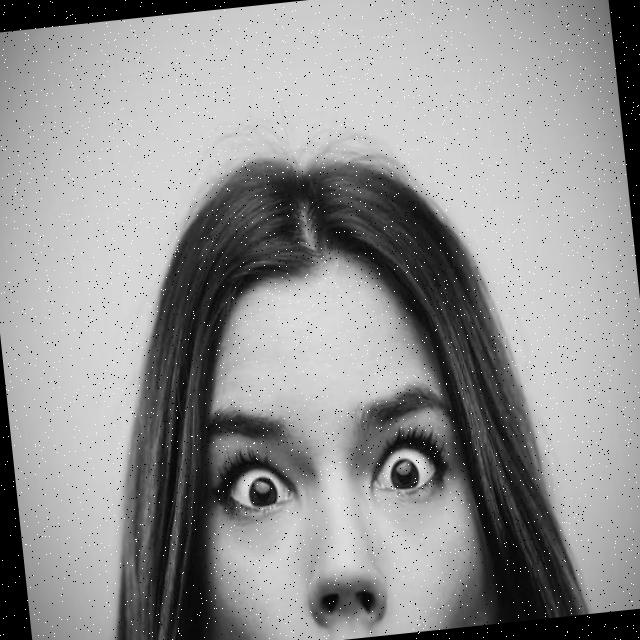Surprised: (177, 218, 488, 640)
